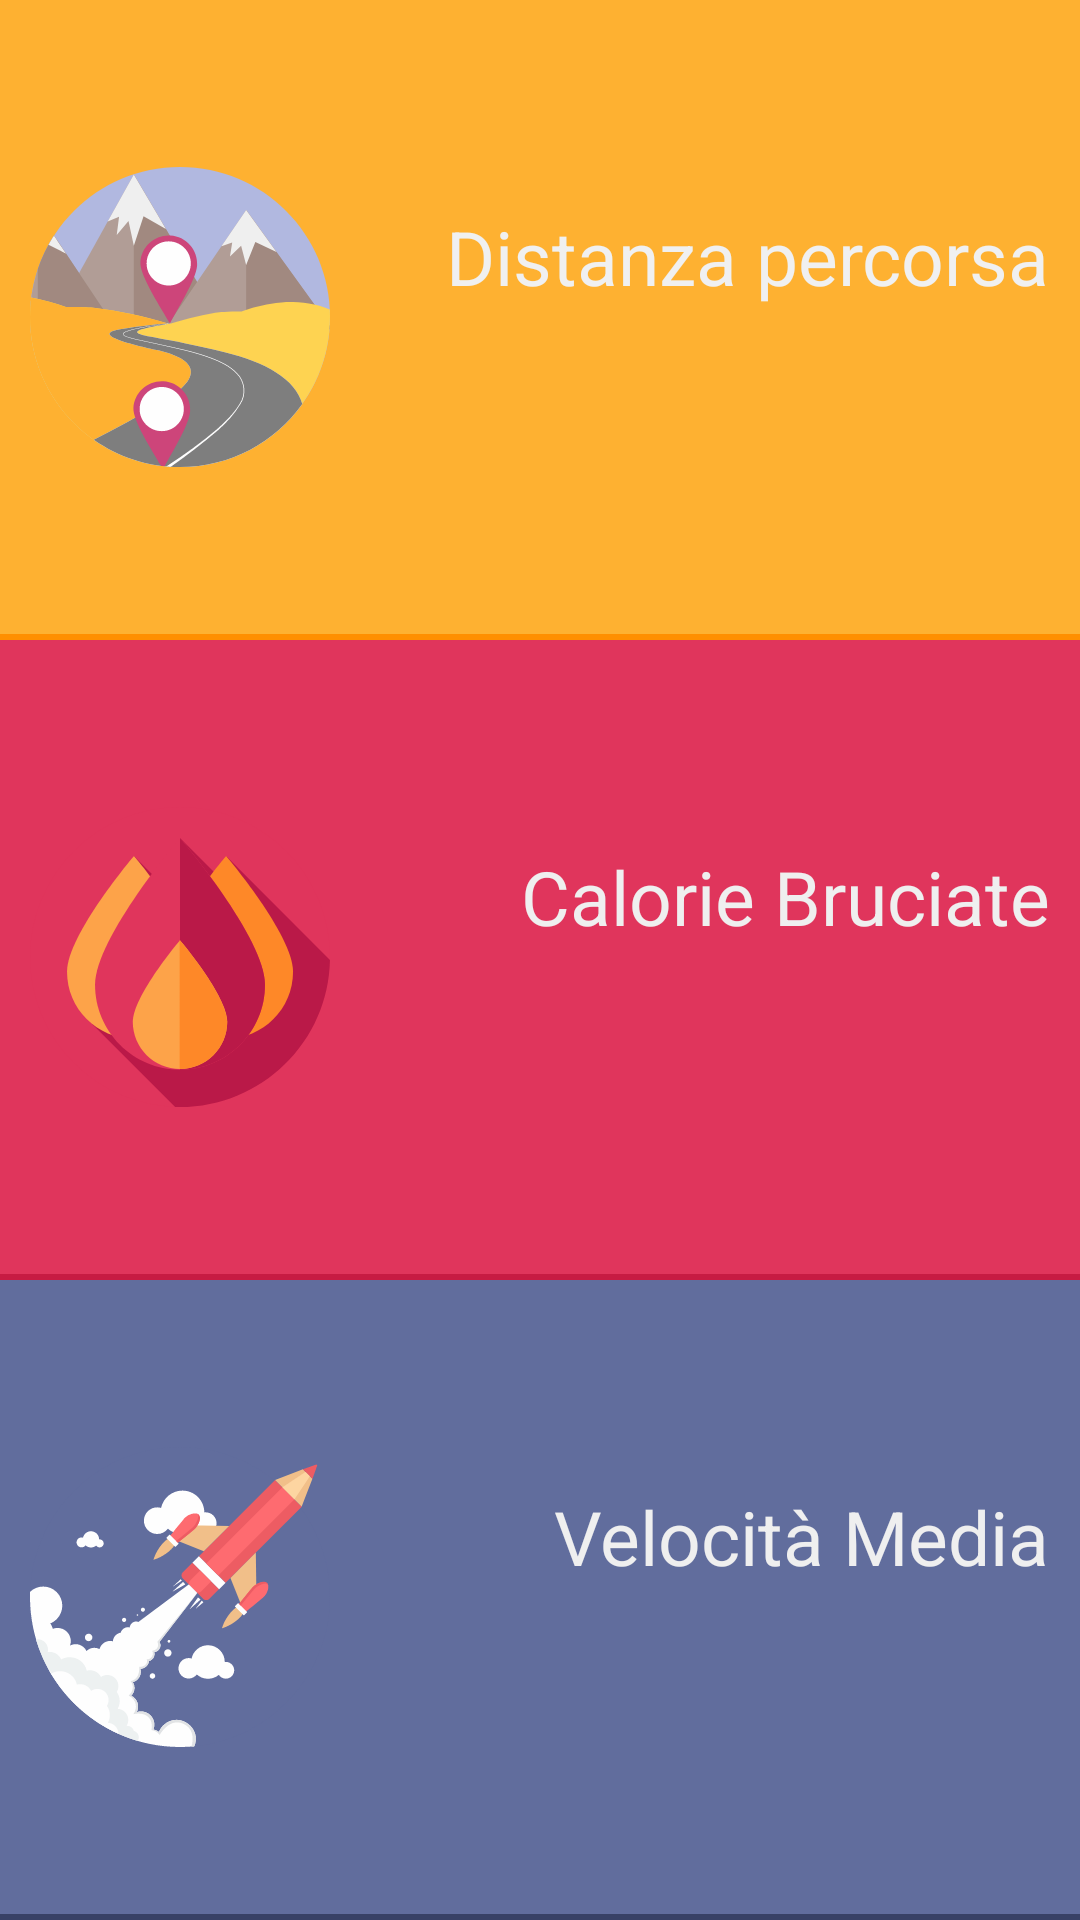

Icon click points for this 1080w x 1920h phone screenshot, format (x=x, y=y):
flame: (x=198, y=973)
rocket: (x=173, y=1605)
route: (x=180, y=317)
